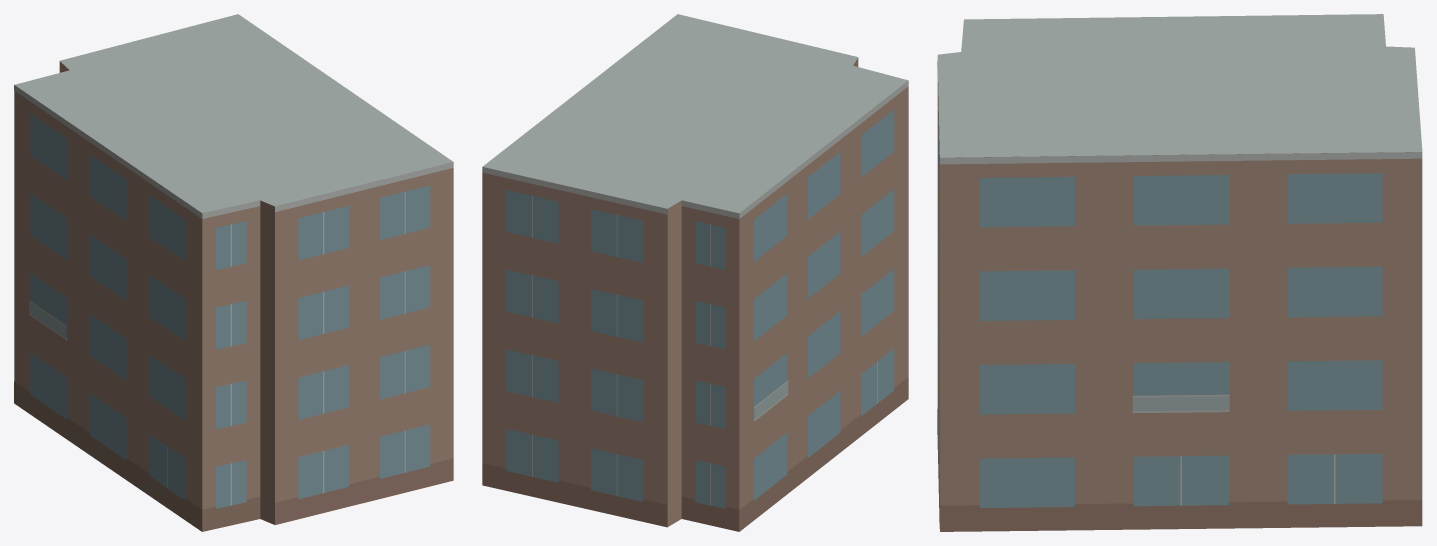
The model's file is survey-upis-32629185.glb.
3 views of the same model, side by side, from view 1: azimuth 30°, elevation 25°; view 2: azimuth 150°, elevation 25°; view 3: azimuth 270°, elevation 25° (orthographic). The views are drawn at different scales.
Visible parts, largest first — view 1: survey-upis-32629185.tmp; view 2: survey-upis-32629185.tmp; view 3: survey-upis-32629185.tmp.
Boxes of the visible parts, box(x1,y1,x2,y2) form: survey-upis-32629185.tmp: box(14, 14, 453, 531); survey-upis-32629185.tmp: box(482, 14, 908, 531); survey-upis-32629185.tmp: box(937, 14, 1422, 531).
Bounding box in the file's own units: 11.12 × 13.5 × 15.87.
